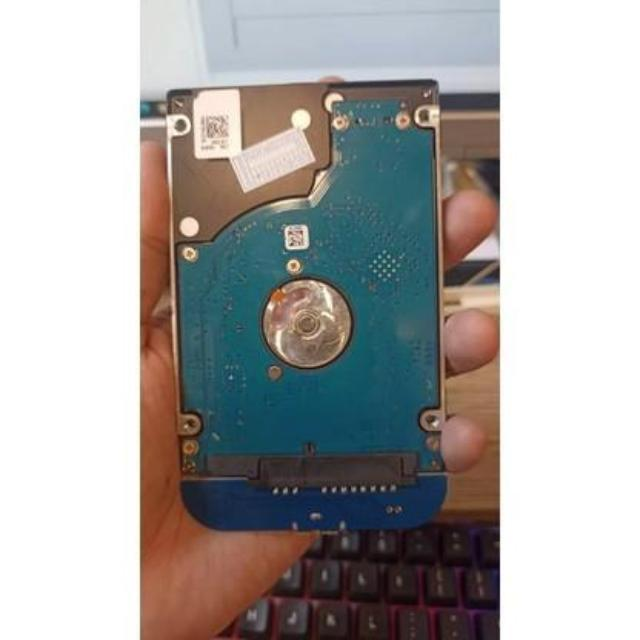DISK: (166, 81, 449, 484)
